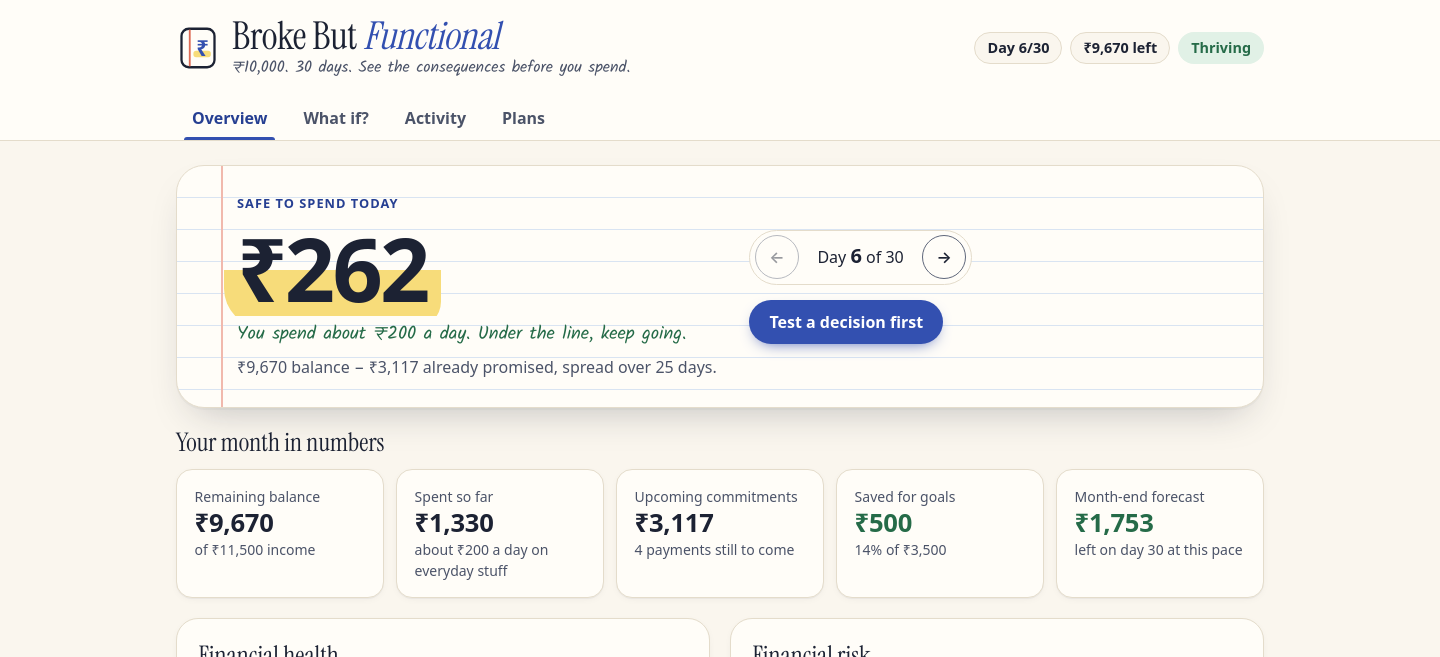
Test: Simulator view › validates before applying
Click the tab "What if?" at (336, 118), box [287,96,385,140]
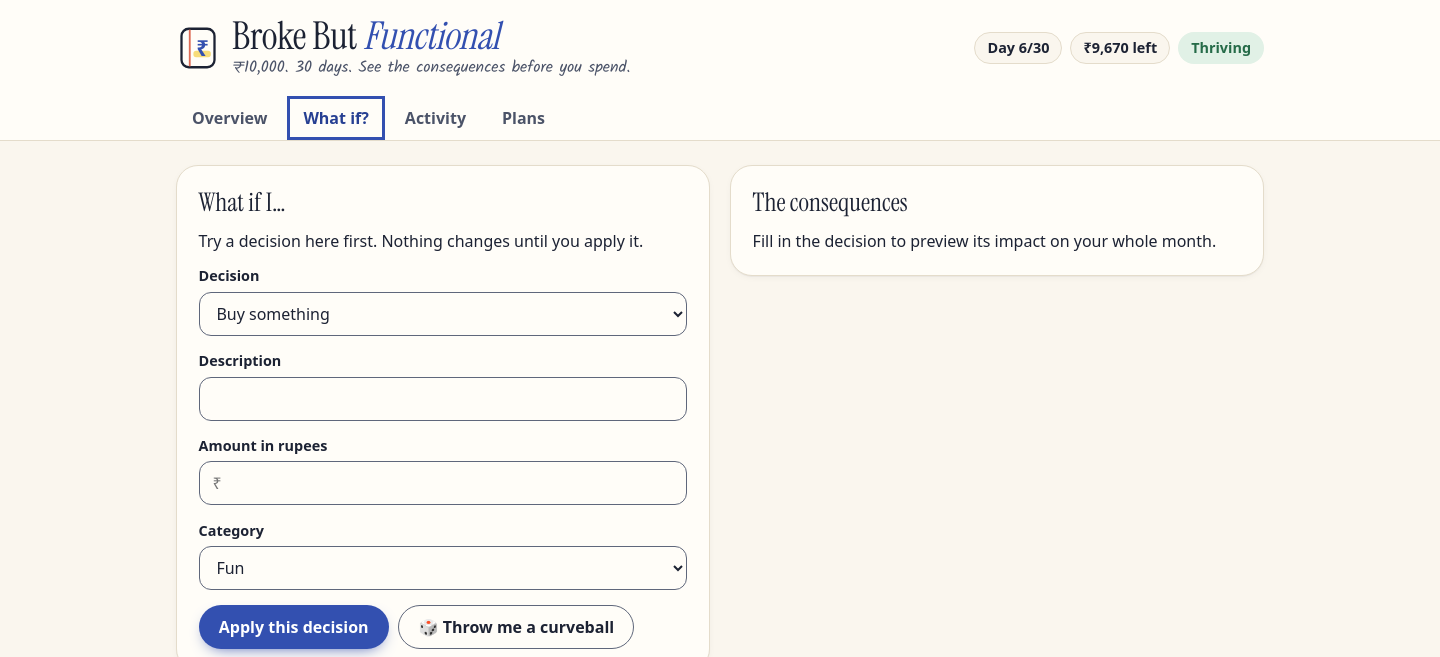
Now the heading "What if I…" is shown, box [199,186,286,219]
Click the button "Apply this decision" at (294, 626), box [199,604,389,648]
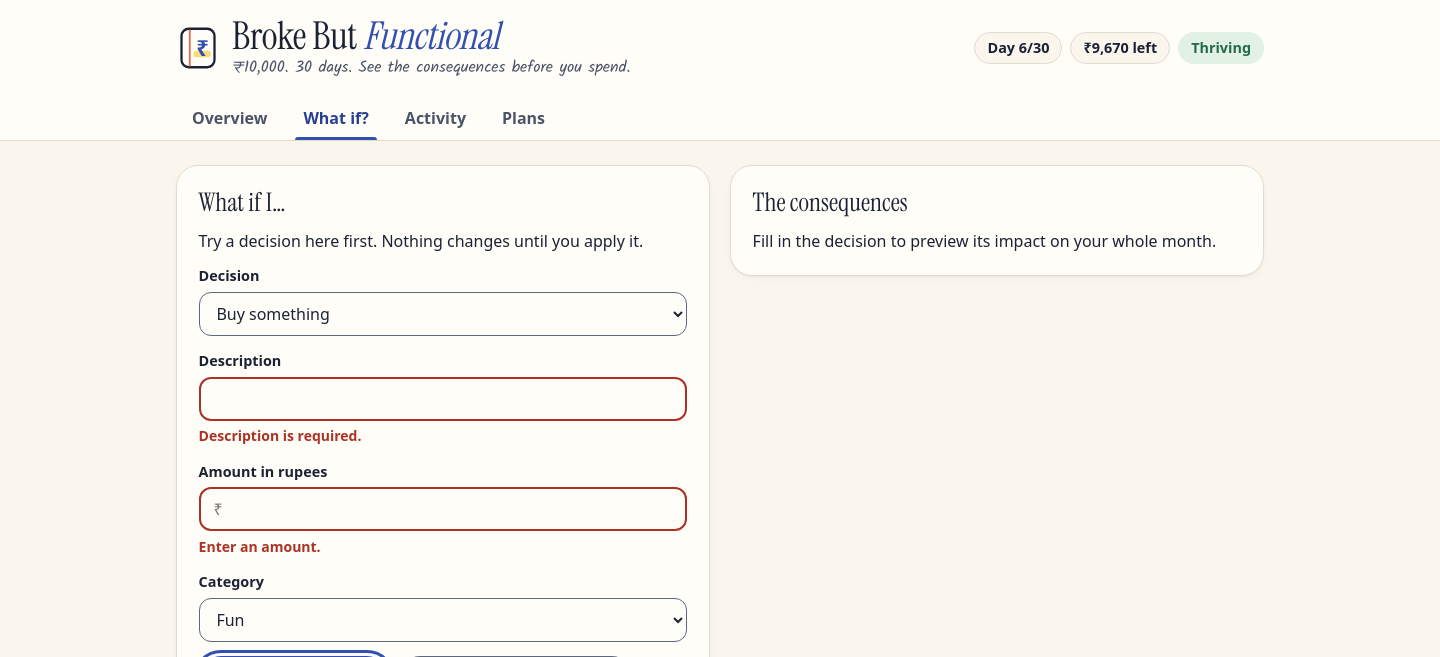
Now the text "Description is required." is shown, box [199,426,362,445]
Now the text "Enter an amount." is shown, box [199,537,321,556]
